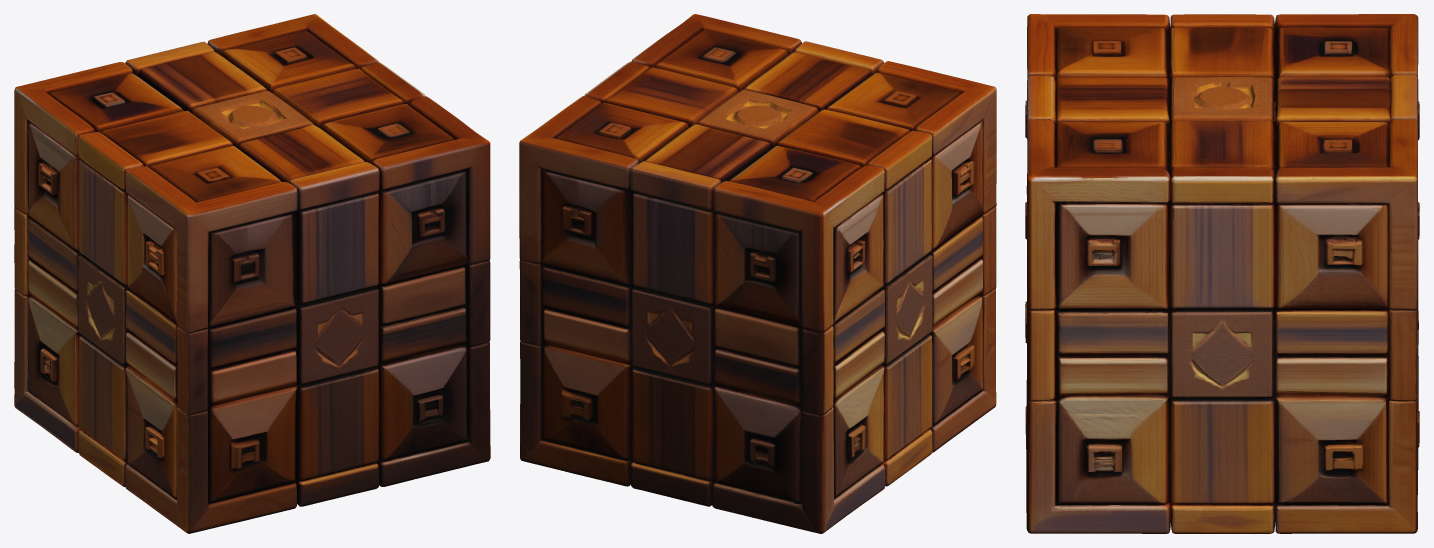
Rendered from wooden-rubik-cube-style-puzzle-art-deco.jpeg.glb.
3 views of the same model, side by side, from view 1: azimuth 30°, elevation 25°; view 2: azimuth 150°, elevation 25°; view 3: azimuth 270°, elevation 25° (orthographic). The views are drawn at different scales.
Parts seen in each view (by area): view 1: world; view 2: world; view 3: world.
Part boxes in pixels (x1=…): world: x1=14, y1=14, x2=490, y2=533; world: x1=519, y1=14, x2=996, y2=533; world: x1=1025, y1=14, x2=1419, y2=533.
Bounding box in the file's own units: 1 × 1 × 1.
Materials: 1 (1 with a texture image).
